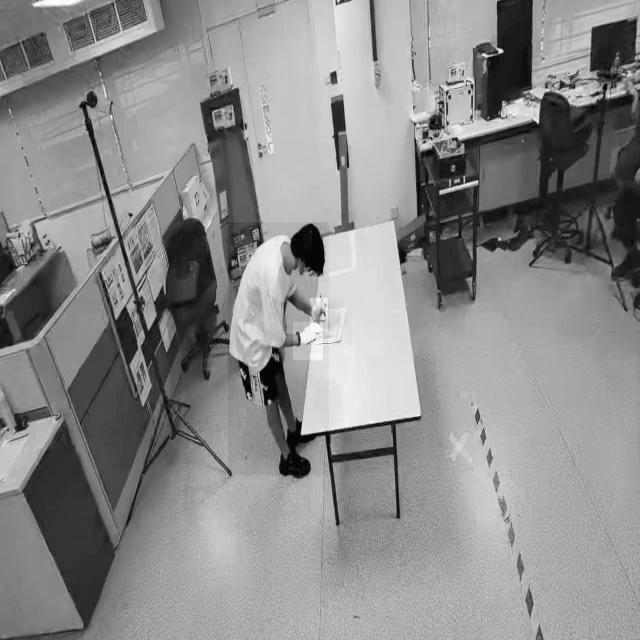hand_glove: (293, 322, 323, 360), (310, 298, 328, 332)
head_nohelmet: (312, 222, 326, 276)
person: (227, 223, 329, 477)
shoes: (278, 443, 314, 482), (286, 412, 316, 442)
